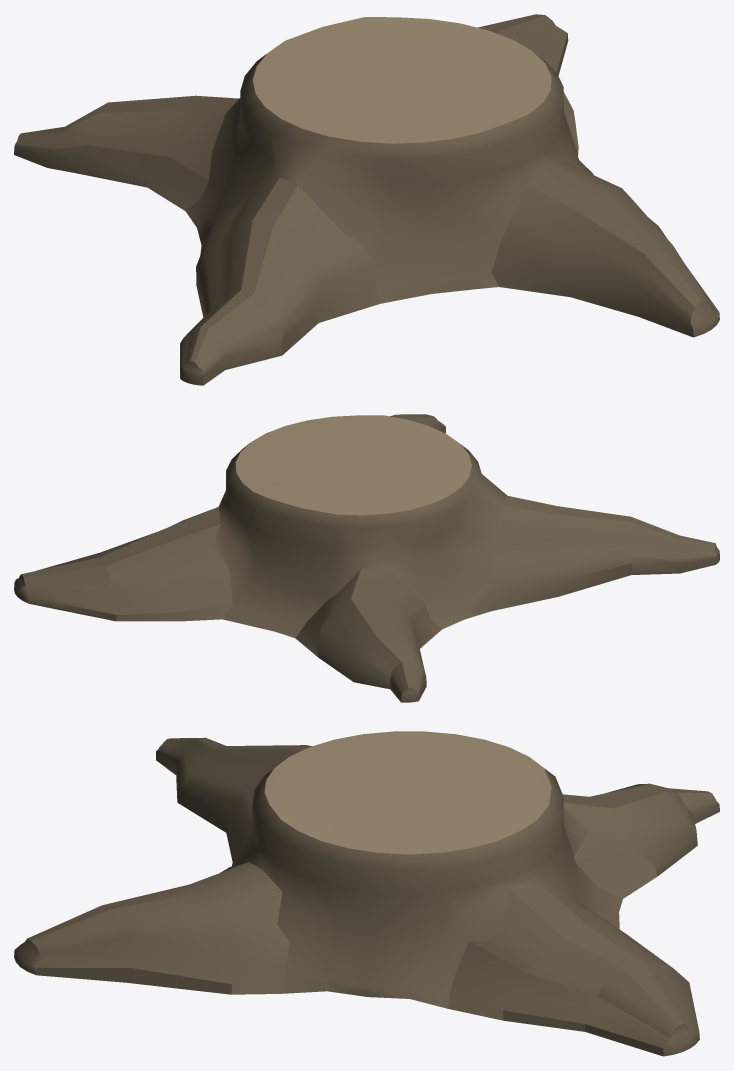
The model's file is treetrunk_NEWNEWmat.fbx.
3 views of the same model, one above another, from view 1: azimuth 30°, elevation 25°; view 2: azimuth 150°, elevation 25°; view 3: azimuth 270°, elevation 25° (orthographic). The views are drawn at different scales.
Parts seen in each view (by area): view 1: treetrunk; view 2: treetrunk; view 3: treetrunk.
Boxes of the visible parts, x1,y1,x2,y2 form: treetrunk: (14,14,719,385); treetrunk: (14,414,719,702); treetrunk: (14,731,719,1056).
Size of the model in its own units: 1.54 by 0.3053 by 1.52.
